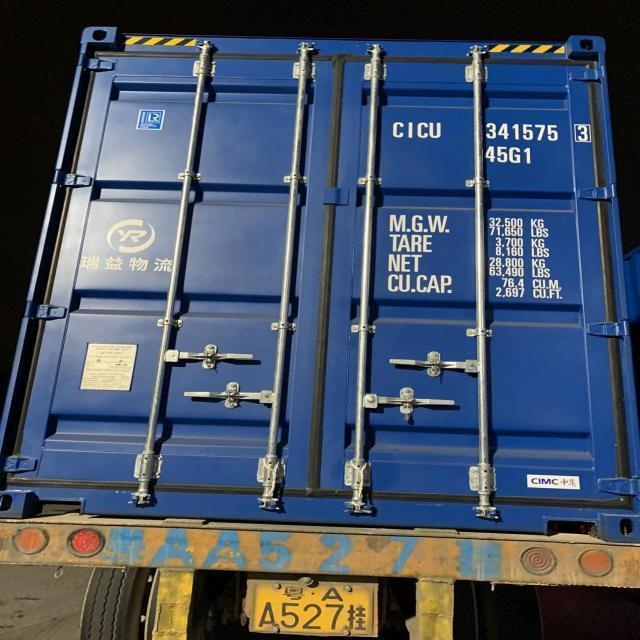ISO: (486, 146, 534, 166)
container_number: (388, 122, 584, 144)
